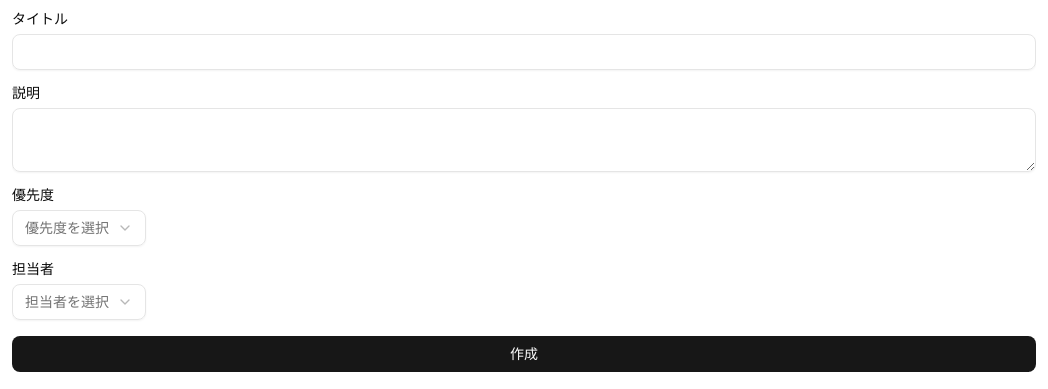
Scenario: TicketCreateForm › 優先度を選択できる
The image size is (1048, 389).
Click the dropdown labelled "優先度": coordinates (79, 228) 12,210 -> 146,246
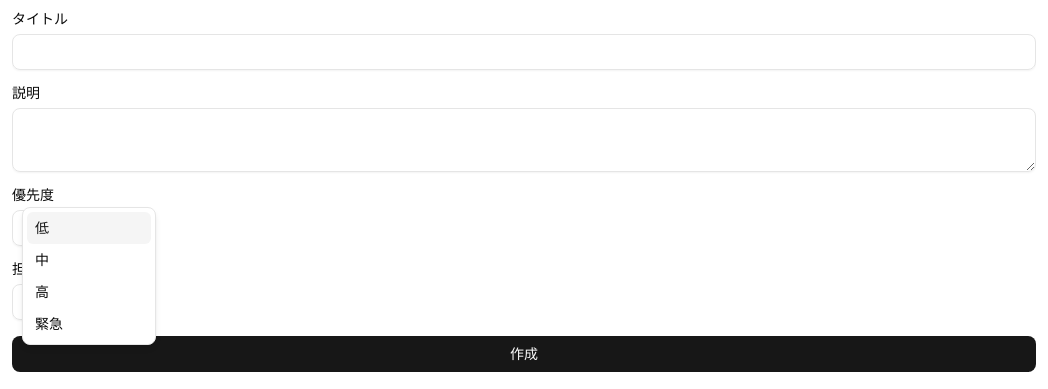
Click the option "高": coordinates (42, 292) 35,284 -> 49,300
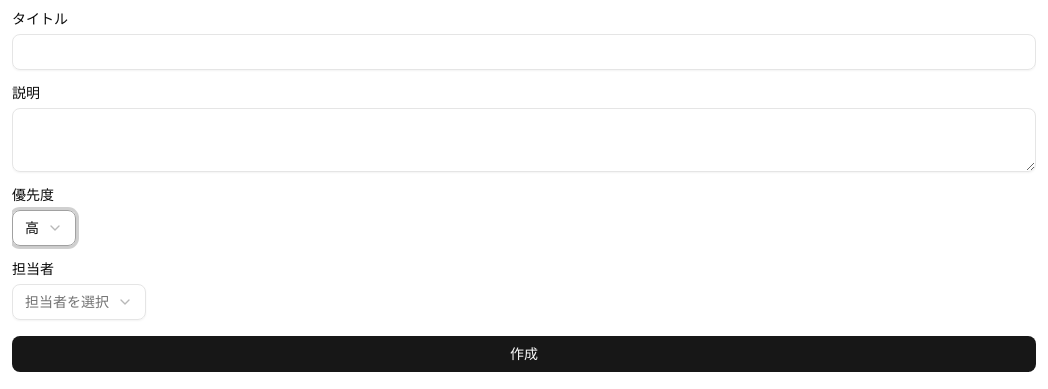
Expected: the dropdown named "優先度" reads "高", 12,210 -> 76,246
